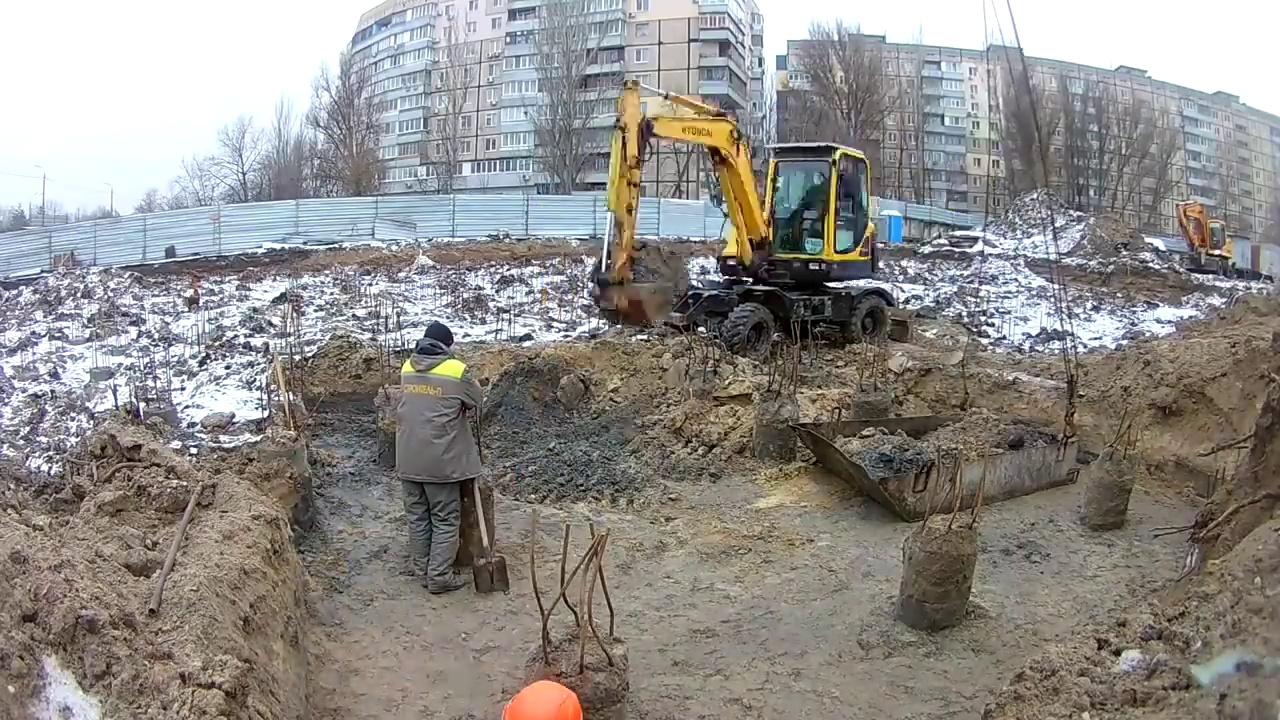helmet: (492, 675, 588, 720)
helmet-off: (412, 324, 455, 366)
person: (391, 323, 487, 597)
